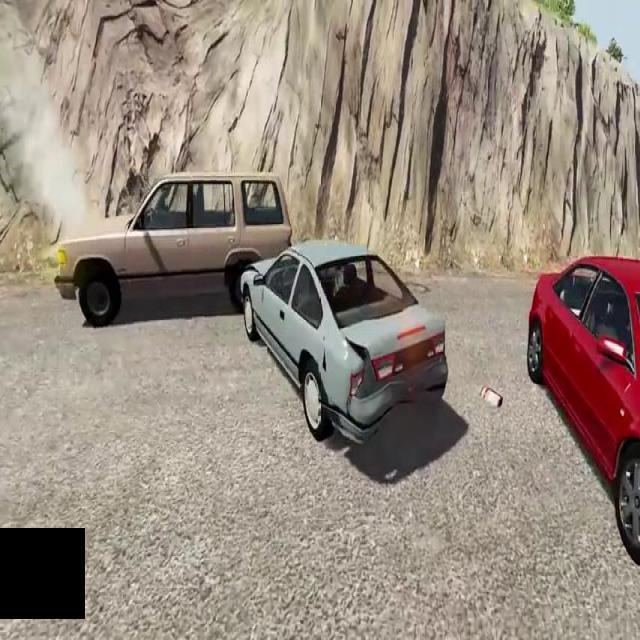accident: (51, 159, 454, 458)
